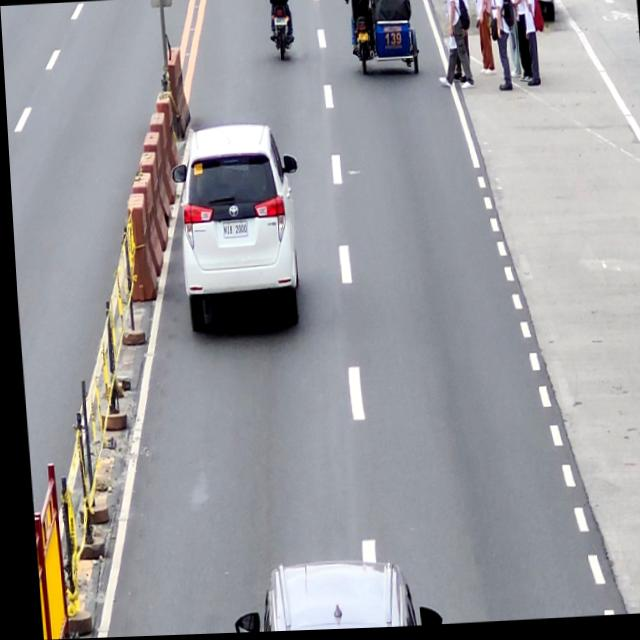Car: (165, 124, 304, 332), (224, 558, 434, 634)
License-Plate: (220, 222, 245, 238), (356, 34, 368, 45)
Tricycle: (346, 0, 421, 78)
